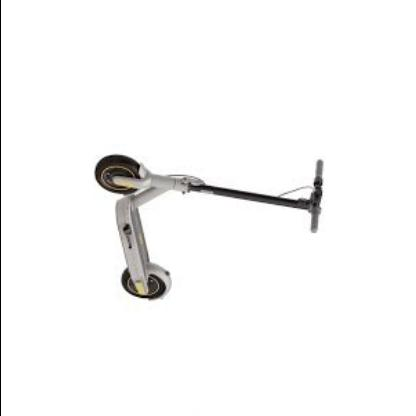bike: (93, 154, 326, 301)
